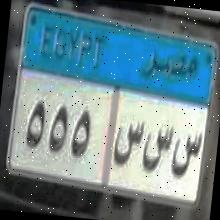5: (66, 110, 94, 164), (22, 99, 49, 149), (46, 103, 70, 153)
seen: (170, 124, 204, 178), (140, 119, 174, 173), (111, 118, 143, 164)
